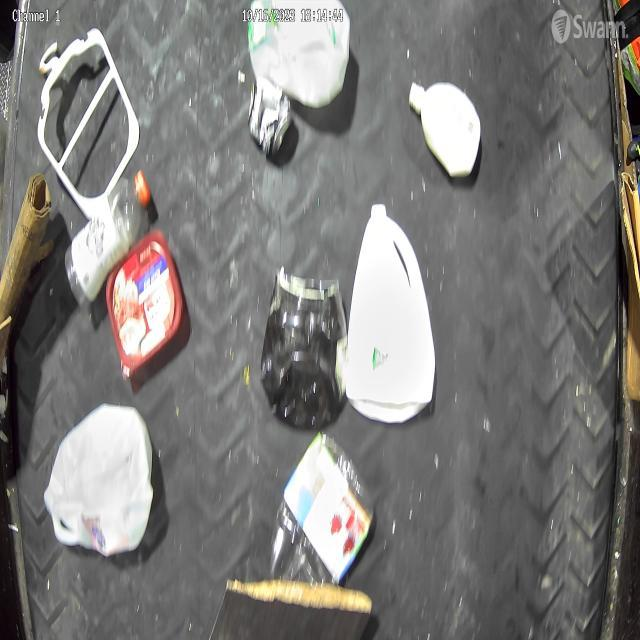can: (248, 75, 291, 155)
milk_jug: (346, 201, 435, 425), (44, 404, 154, 556), (248, 0, 352, 107)
non_white_jug: (260, 268, 348, 431)
plastic_bottle: (270, 432, 376, 580), (64, 170, 150, 304)
